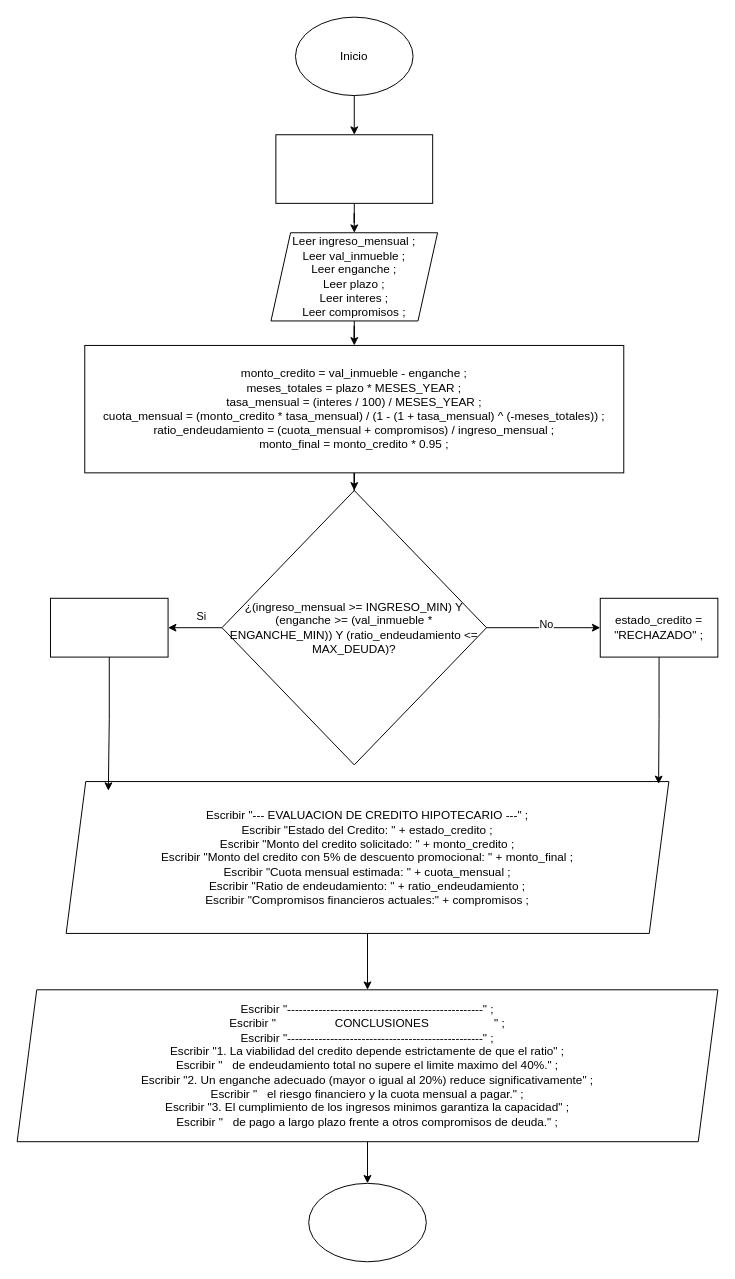
This 735x1279 diagram has some shape labels left out. Each missing label, with the box of its shape:
estado_credito = "APROBADO" ;: (49, 597, 168, 657)
Fin: (308, 1182, 426, 1262)
INGRESO_MIN = 1500 ; ENGANCHE_MIN = 0.20 ; MAX_DEUDA = 0.40 ; MESES_YEAR = 12 ;: (275, 134, 433, 203)
